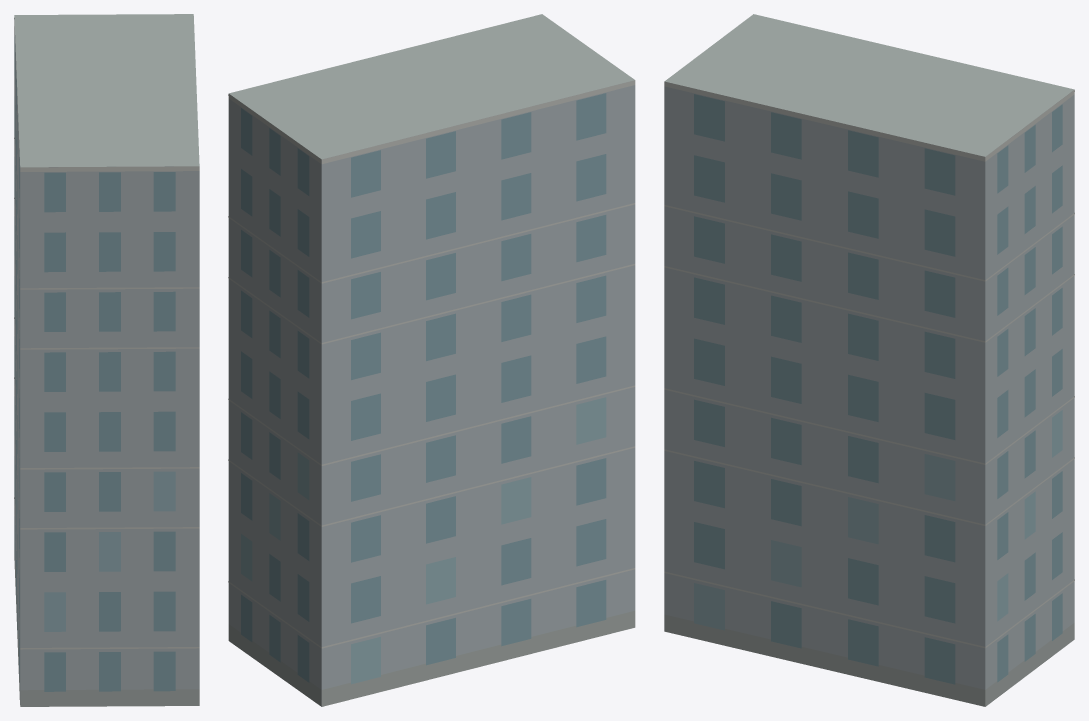
File: survey-upis-32903190.glb
The picture shows the model from 3 angles, left to right: view 1: azimuth 30°, elevation 25°; view 2: azimuth 150°, elevation 25°; view 3: azimuth 270°, elevation 25°; orthographic projection.
Parts seen in each view (by area): view 1: survey-upis-32903190.tmp; view 2: survey-upis-32903190.tmp; view 3: survey-upis-32903190.tmp.
Boxes of the visible parts, x1,y1,x2,y2 form: survey-upis-32903190.tmp: (14, 14, 199, 706); survey-upis-32903190.tmp: (228, 14, 635, 706); survey-upis-32903190.tmp: (664, 14, 1074, 706).
Size of the model in its own units: 15.31 by 27.45 by 18.58.
